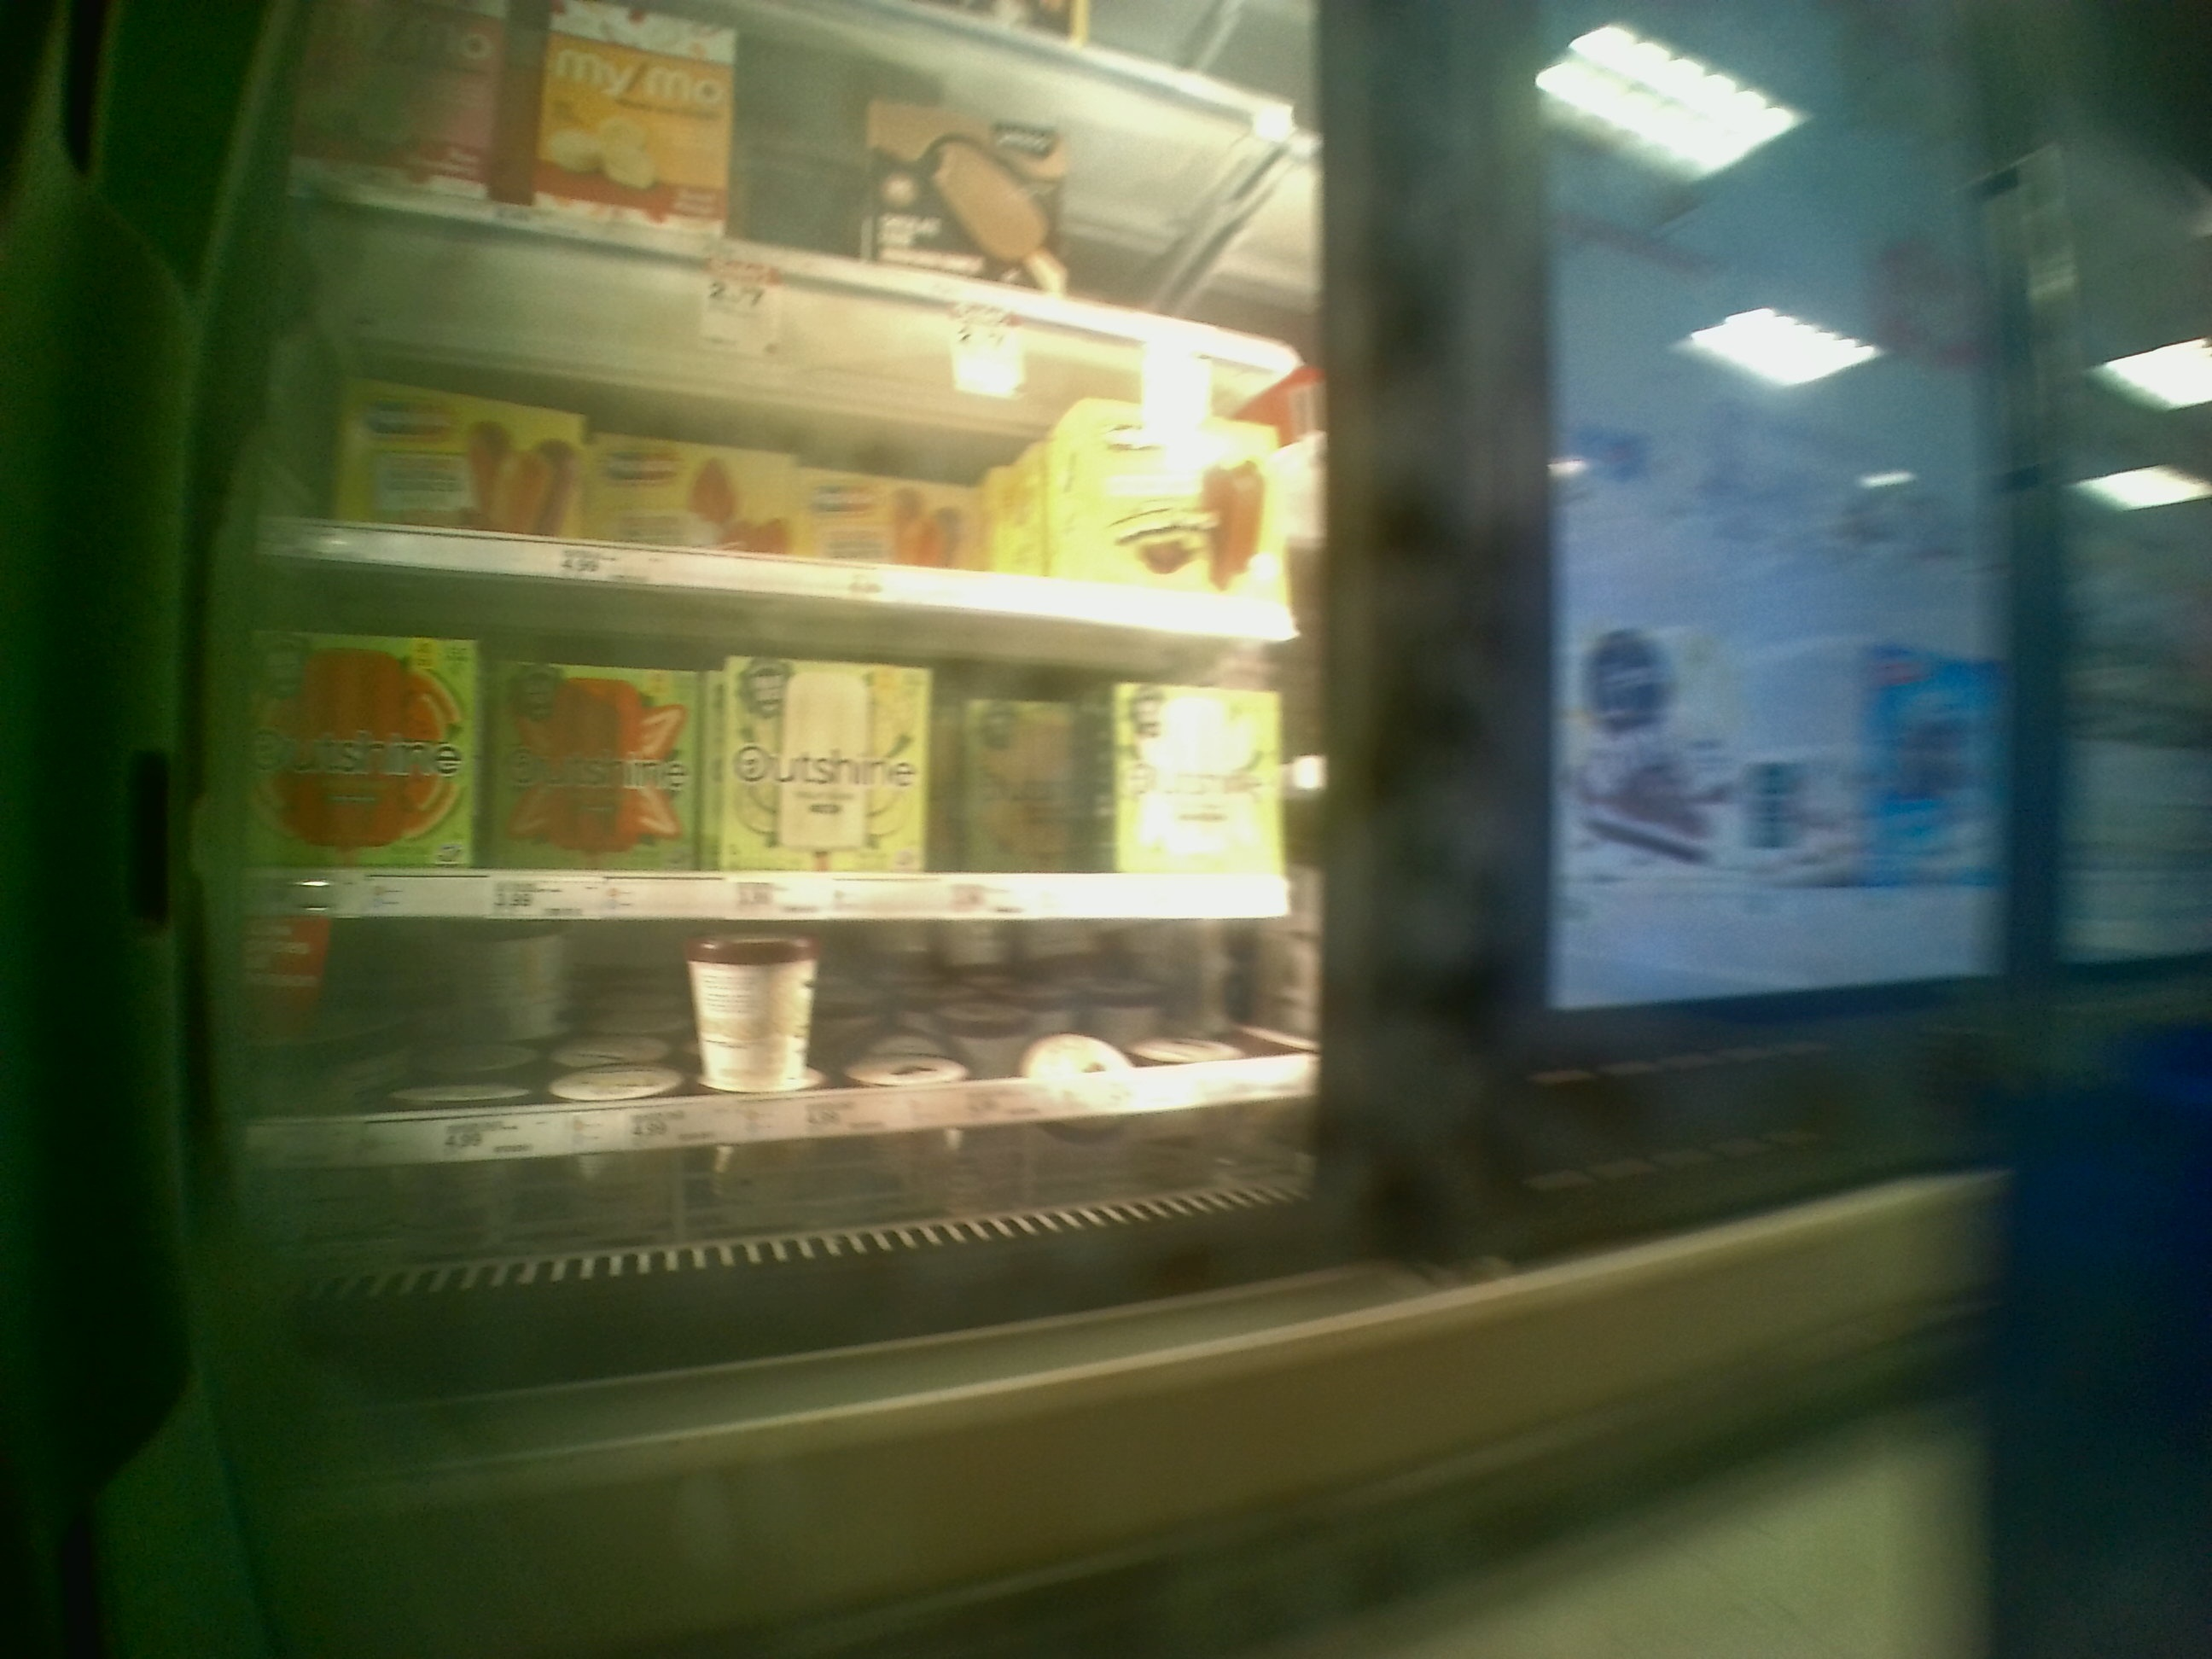ice-cream-shelf: (254, 561, 1299, 913), (251, 917, 1315, 1208)
